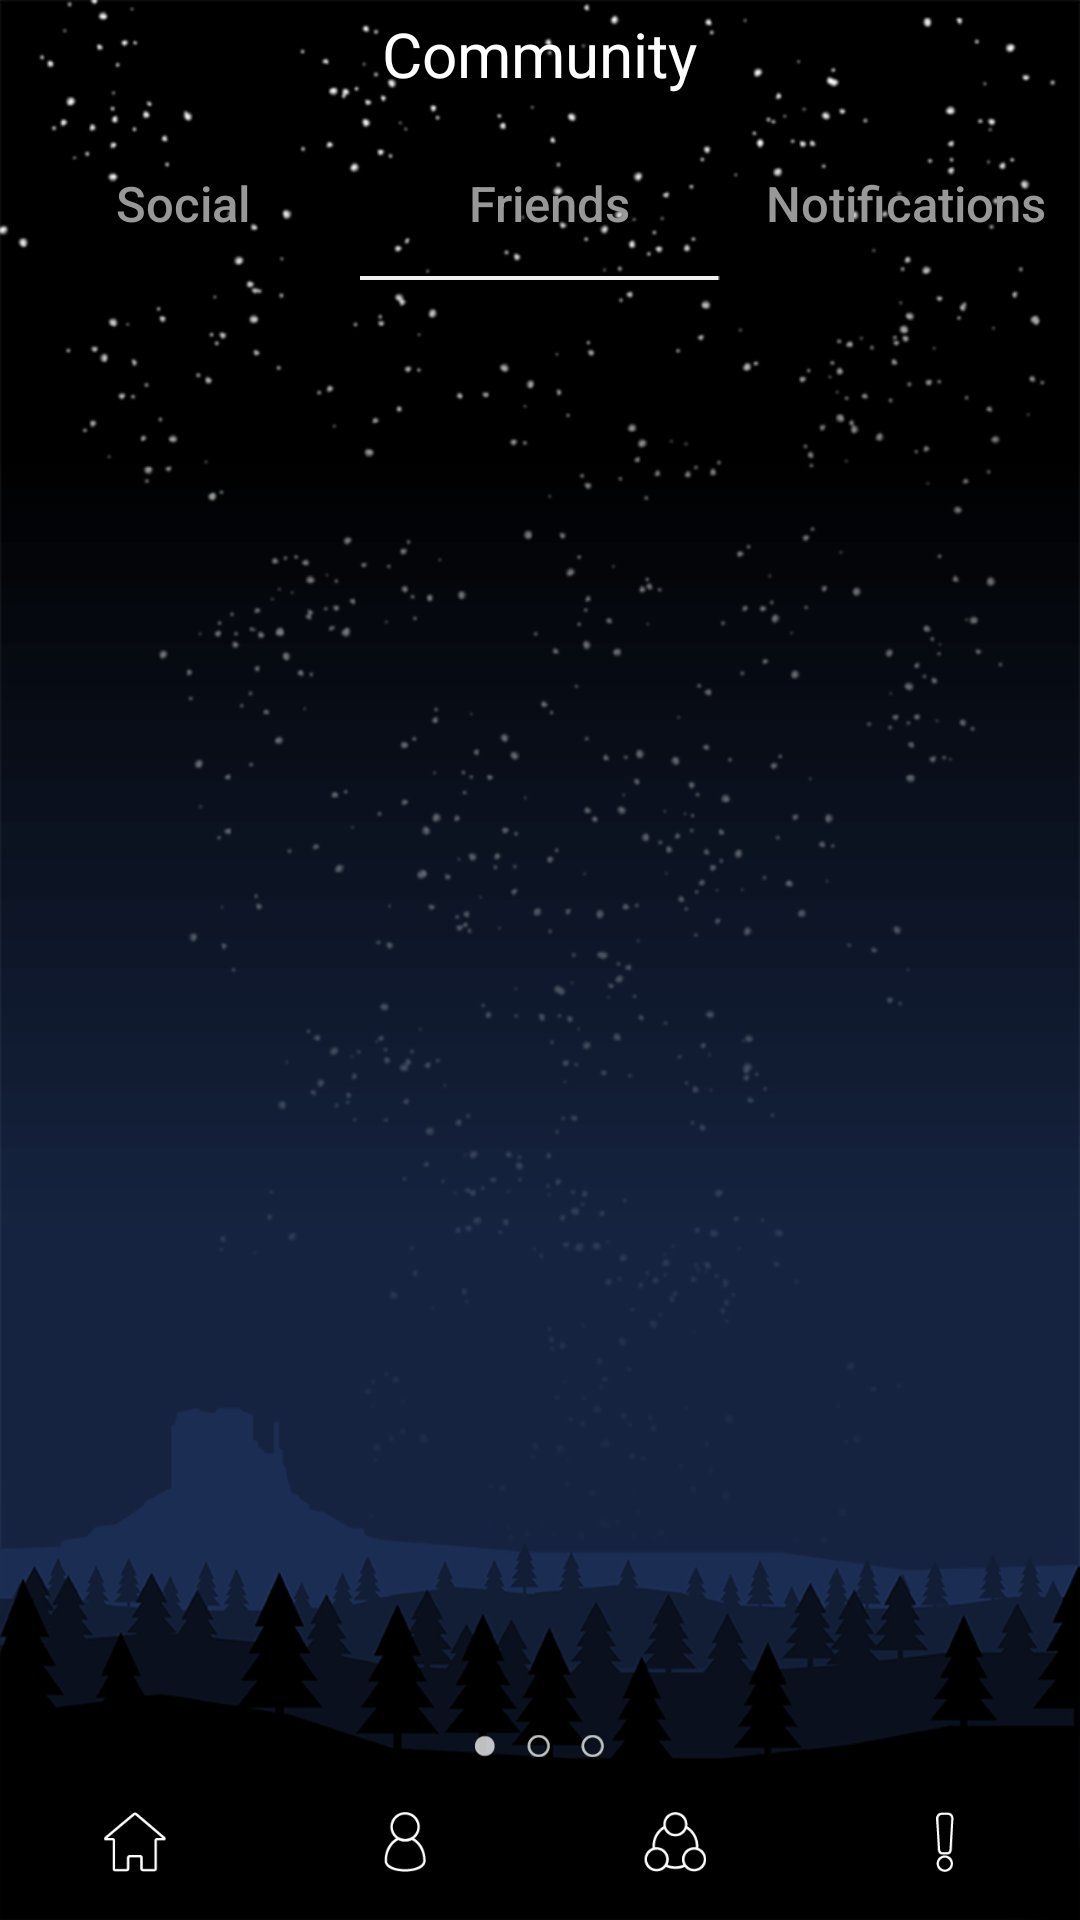

Screen size 1080*1920. Icon name, then its box in pixels as [left=x1, top=y1, right=x2, bottom=y2]:
community unfilled: [left=644, top=1812, right=706, bottom=1872]
home unfilled: [left=104, top=1812, right=166, bottom=1872]
profile unfilled: [left=384, top=1812, right=426, bottom=1872]
quest unfilled: [left=936, top=1812, right=954, bottom=1872]
